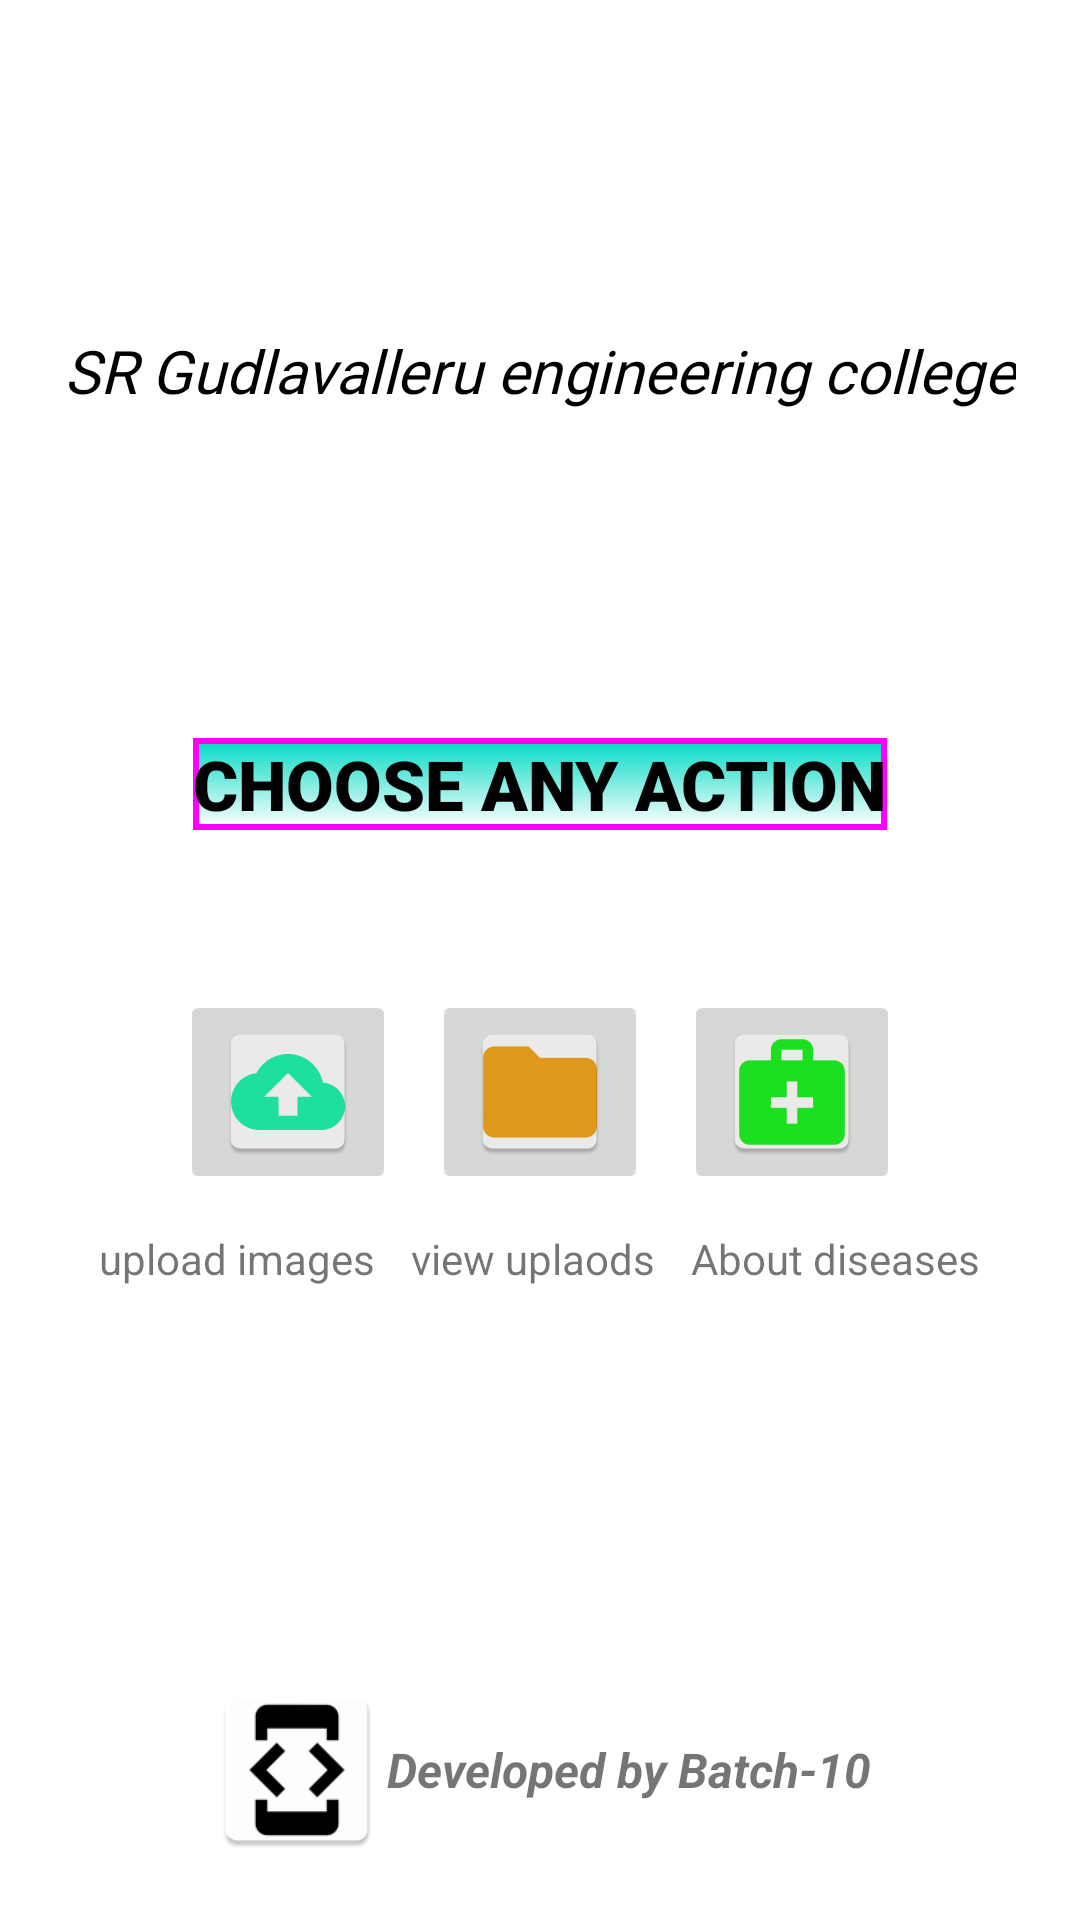

Where to tap for icons on this 1080px×1920px app screen, as point (x, y):
FOLDER: point (540, 1092)
